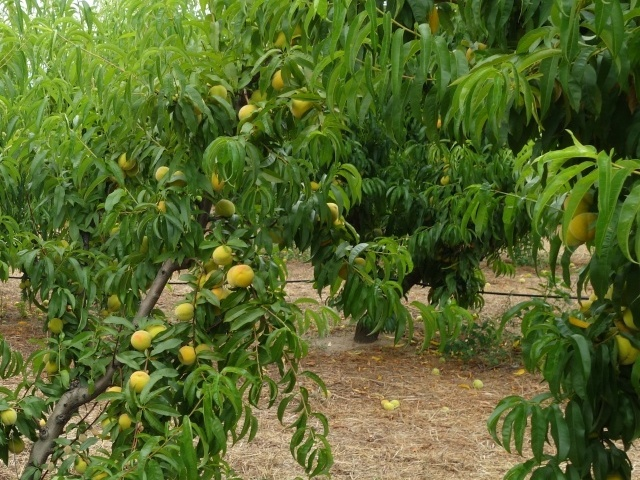peach: (565, 210, 600, 247), (608, 331, 639, 369), (223, 261, 257, 292), (124, 368, 154, 398), (283, 90, 315, 118), (554, 224, 580, 256), (128, 328, 156, 355), (234, 99, 261, 127), (208, 239, 234, 267), (175, 343, 200, 371), (173, 300, 198, 326), (268, 66, 293, 92), (212, 196, 236, 220), (207, 82, 231, 105), (115, 150, 139, 172), (323, 198, 343, 223), (152, 163, 173, 186), (6, 434, 27, 456), (44, 316, 67, 336), (114, 411, 134, 432), (41, 357, 62, 377), (104, 292, 123, 314), (1, 405, 18, 429), (70, 459, 92, 477)
